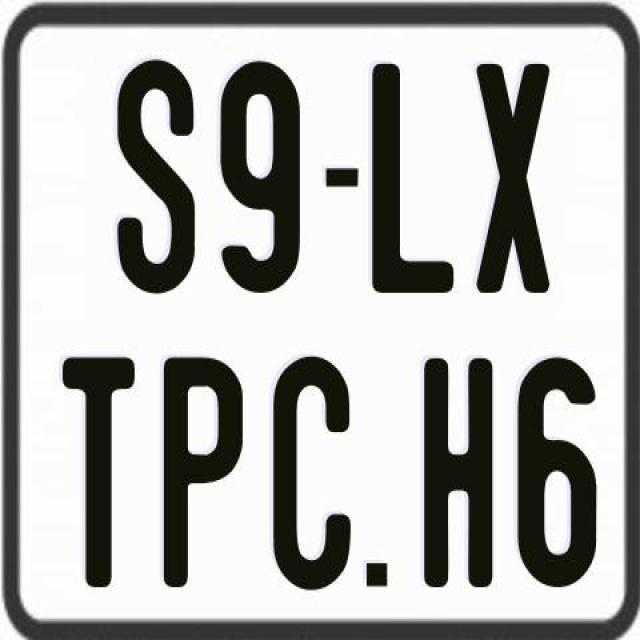6: (514, 355, 596, 584)
9: (218, 58, 298, 290)
C: (273, 352, 355, 592)
H: (424, 357, 500, 592)
L: (370, 61, 458, 290)
P: (163, 354, 249, 590)
S: (114, 59, 198, 294)
T: (60, 357, 132, 592)
X: (474, 60, 548, 298)
